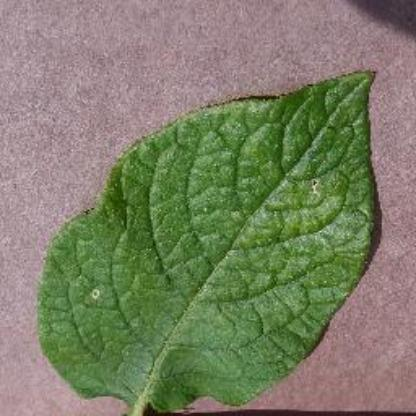Healthy-plant: (40, 63, 406, 415)
